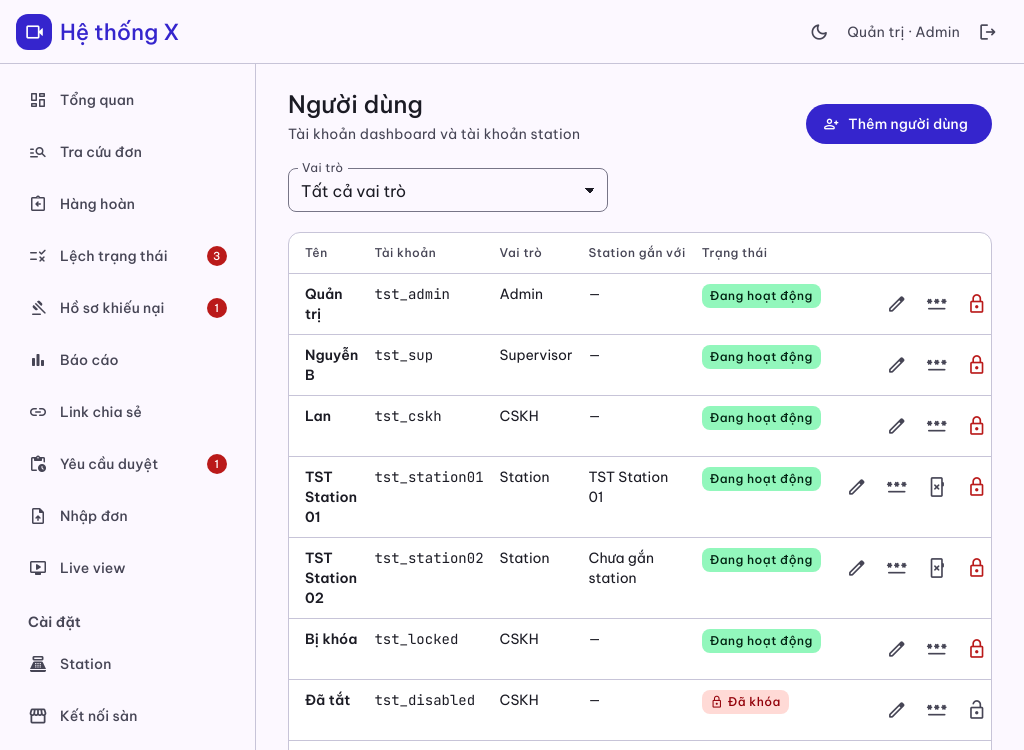
Test case: TC-10.07: khóa Admin cuối → Phải còn ít nhất một Admin., vẫn hoạt động
What coordinates should you click on to do the following:
click the button named "Khóa tài khoản tst_admin"
I would click on:
 (977, 304)
Its box is 957,284 -> 997,324.
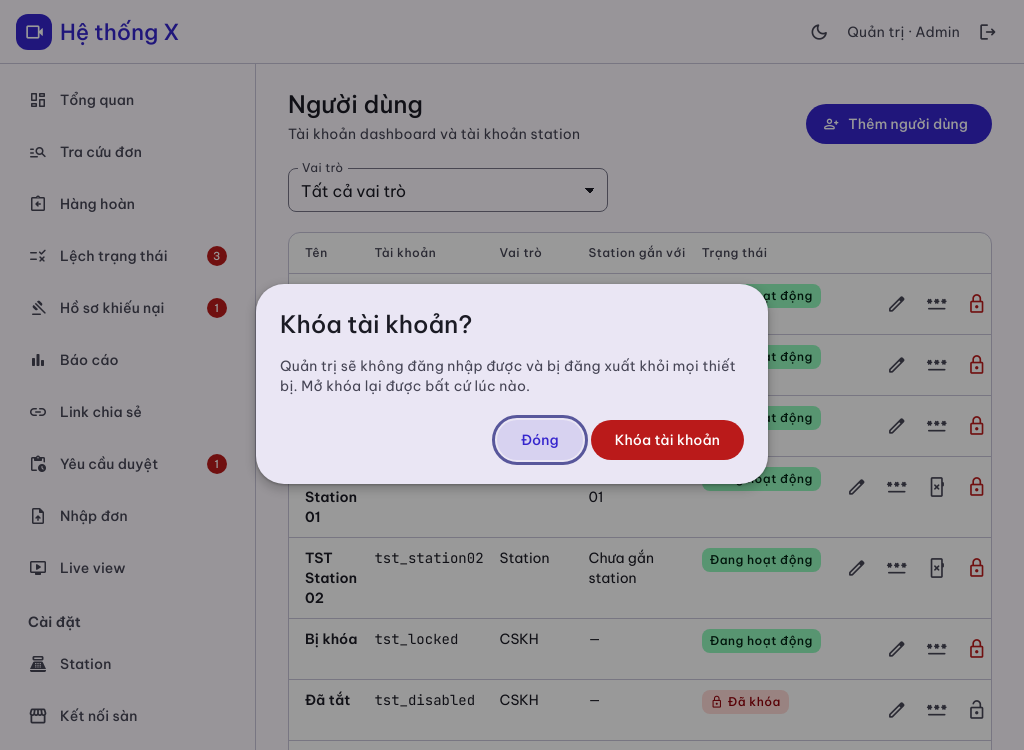
What coordinates should you click on to do the following:
click the button "Khóa tài khoản"
I would click on:
 (667, 440)
Its box is 591,420 -> 744,460.
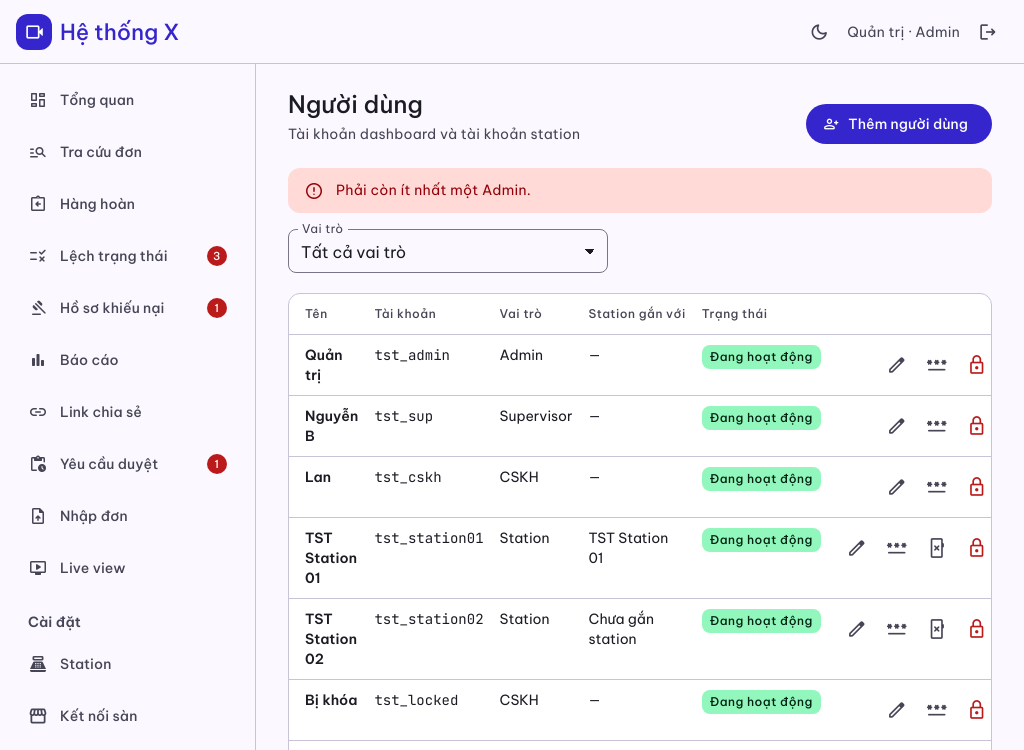
Now the text "Phải còn ít nhất một Admin." is shown, box 336,181 -> 531,199
